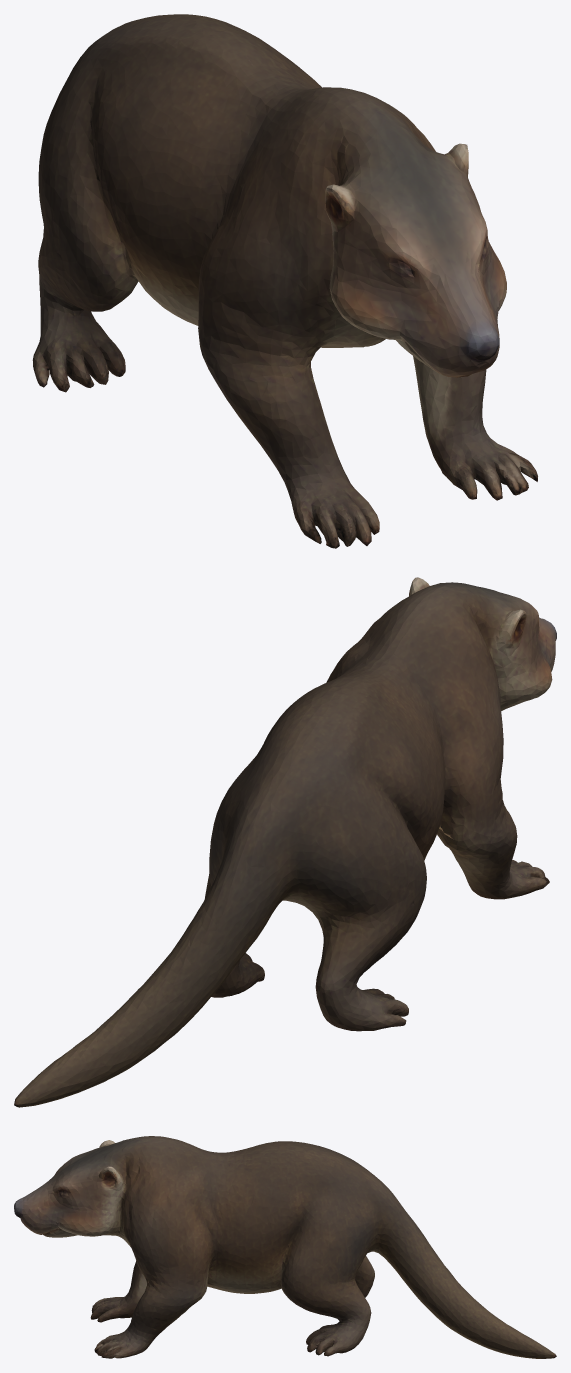
The picture shows the model from 3 angles, top to bottom: view 1: azimuth 30°, elevation 25°; view 2: azimuth 150°, elevation 25°; view 3: azimuth 270°, elevation 25°; orthographic projection. The views are drawn at different scales.
Parts seen in each view (by area): view 1: world; view 2: world; view 3: world.
Part boxes in pixels (x1,y1,x2,y2): world: (32, 14, 537, 548); world: (14, 577, 556, 1107); world: (14, 1136, 556, 1358).
Bounding box in the file's own units: 0.2663 × 0.3557 × 0.9.
Materials: 1 (1 with a texture image).
